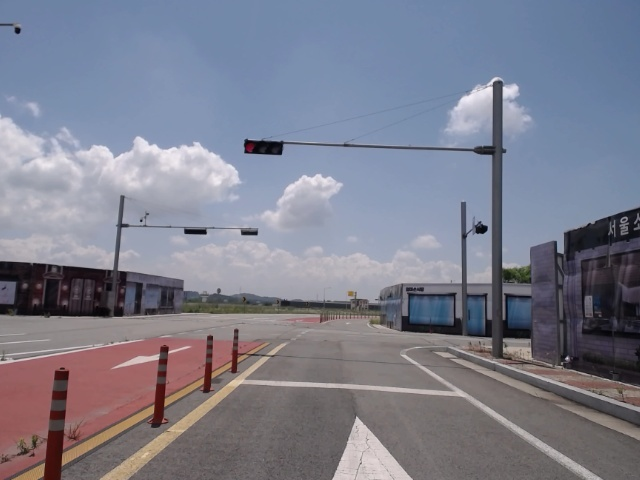red_3: (243, 140, 284, 157)
